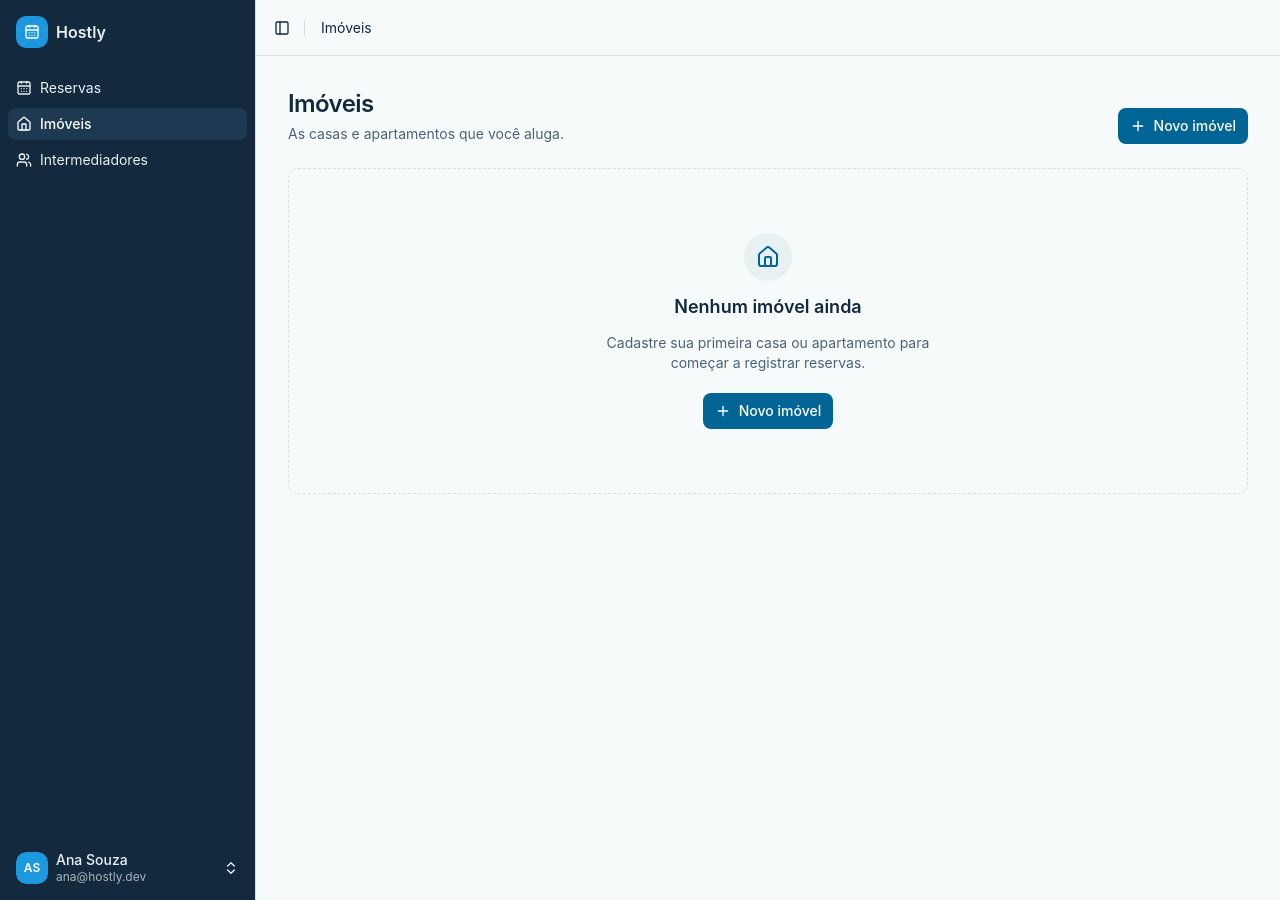
Test case: creating a property › lets the address be typed by hand when the CEP is not found
Check: the heading "Imóveis" is shown, box [288,89,374,118]
Click the button "Novo imóvel" in the row of "As casas e apartamentos que você aluga.": (1183, 126) [1118,108,1248,144]
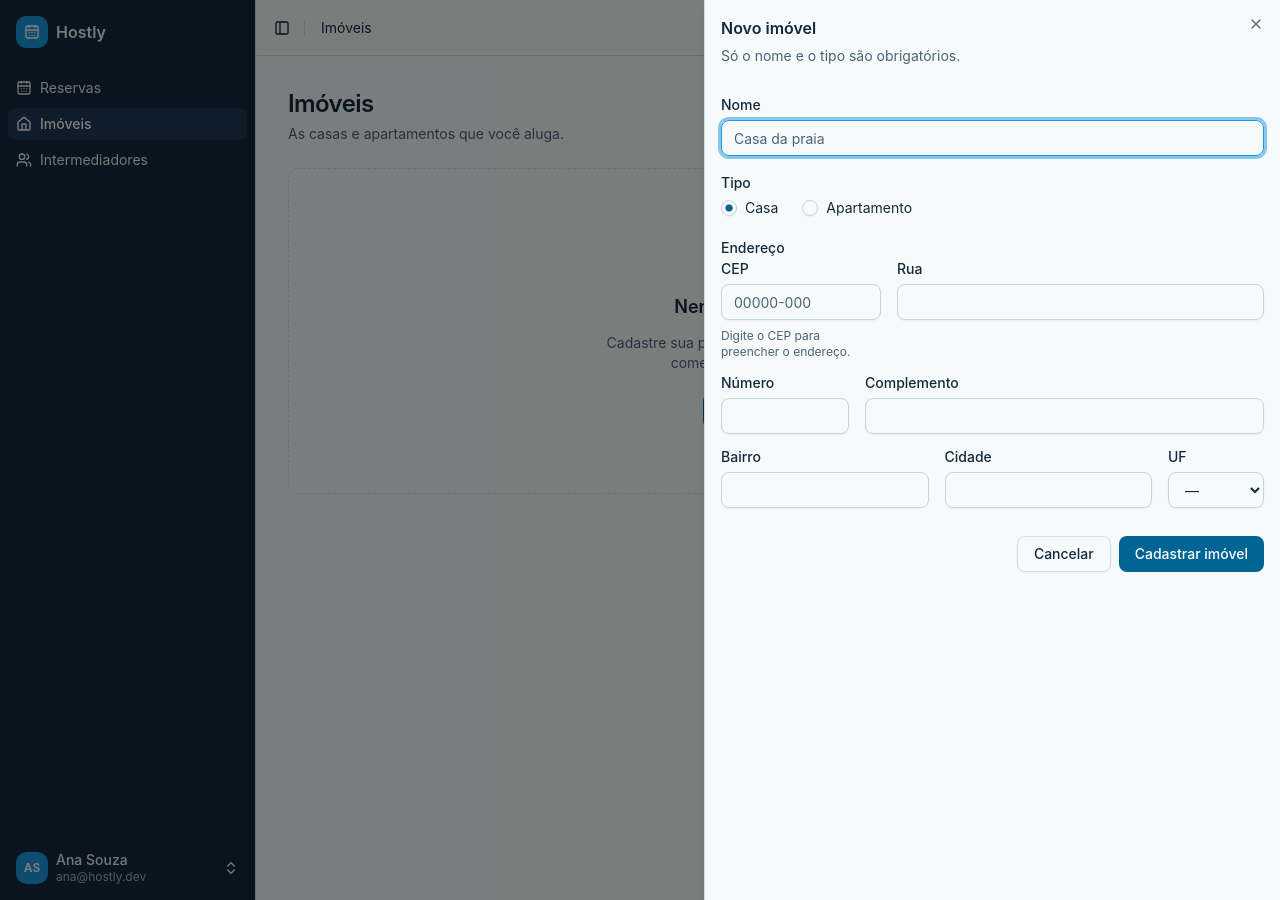
In the field labelled "CEP": (801, 302) [721,284,881,320], type "99999999"
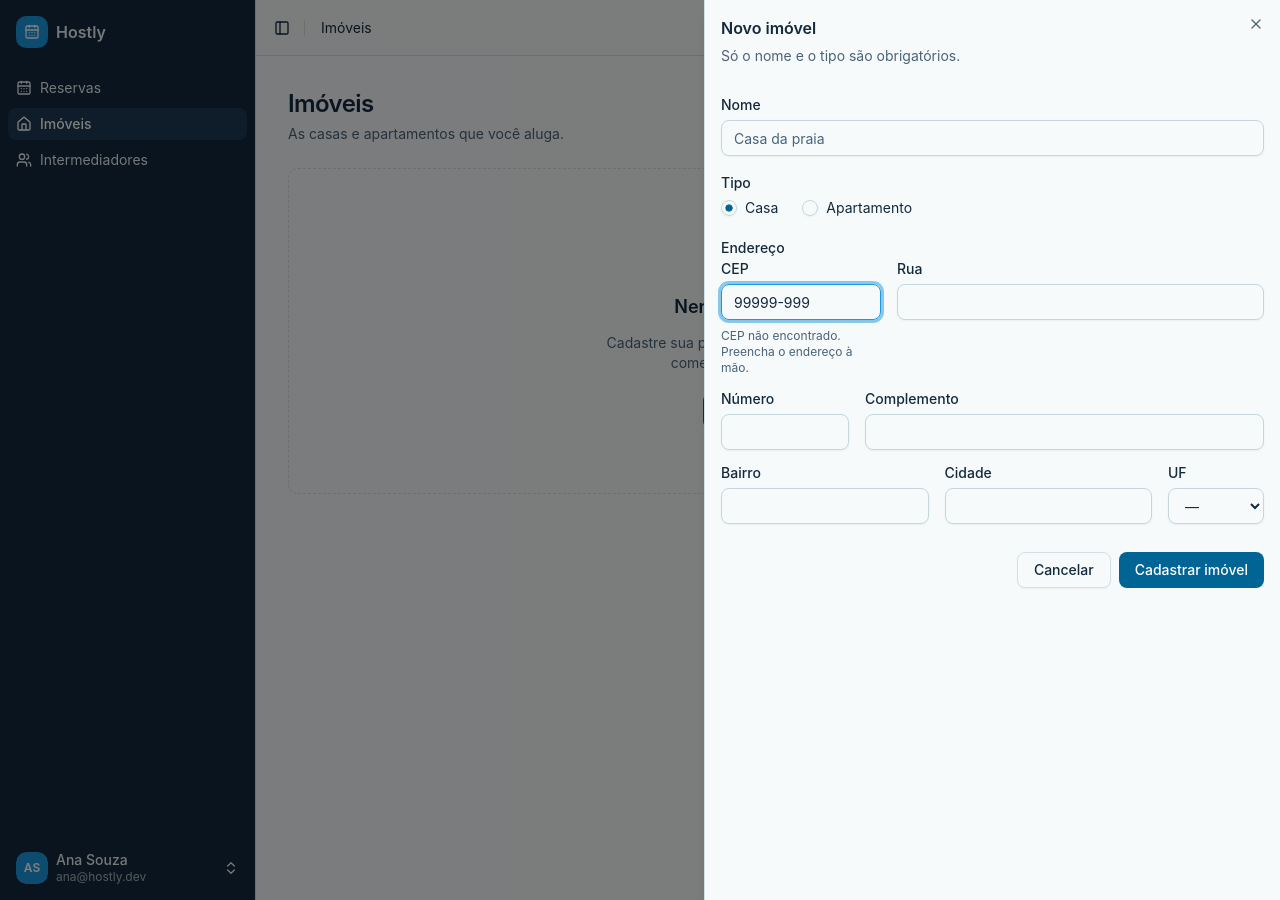
Check: the field labelled "Rua" is enabled, box [897,284,1264,320]
Check: the text "CEP não encontrado. Preencha o endereço à mão." is shown, box [721,328,853,375]
